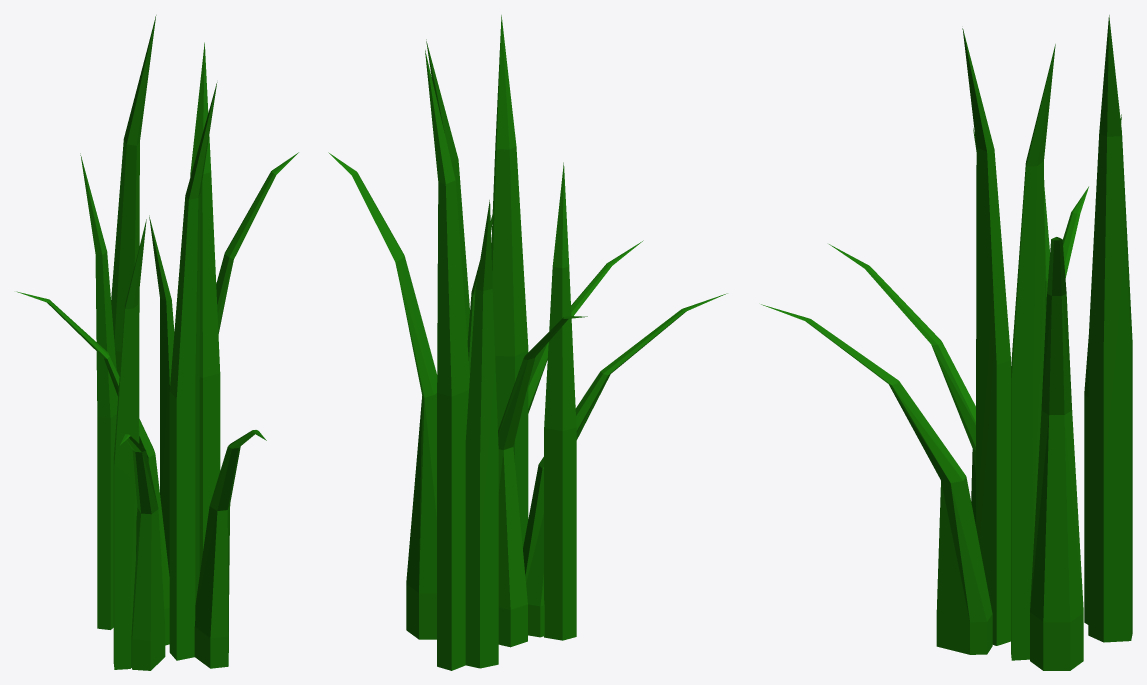
Rendered from Grass.obj.
The picture shows the model from 3 angles, left to right: view 1: azimuth 30°, elevation 25°; view 2: azimuth 150°, elevation 25°; view 3: azimuth 270°, elevation 25°; orthographic projection. The views are drawn at different scales.
Parts seen in each view (by area): view 1: 柱体.007, 柱体.005, 柱体.003, 柱体.009, 柱体.002, 柱体.006, 柱体.008, 柱体.004, 柱体.001, 柱体; view 2: 柱体.008, 柱体.009, 柱体.005, 柱体.007, 柱体, 柱体.001, 柱体.006, 柱体.003, 柱体.002; view 3: 柱体.008, 柱体.007, 柱体, 柱体.003, 柱体.002, 柱体.006, 柱体.009, 柱体.001.
Boxes of the visible parts, x1,y1,x2,y2 form: 柱体.007: (169,82,217,660); 柱体.005: (113,219,146,669); 柱体.003: (190,42,220,573); 柱体.009: (80,153,117,629); 柱体.002: (194,430,266,668); 柱体.006: (119,434,165,670); 柱体.008: (111,15,156,417); 柱体.004: (149,215,174,575); 柱体.001: (16,291,169,645); 柱体: (216,152,298,333); 柱体.008: (425,50,469,670); 柱体.009: (465,200,498,668); 柱体.005: (544,162,576,640); 柱体.007: (491,15,528,548); 柱体: (328,152,437,639); 柱体.001: (498,316,587,647); 柱体.006: (523,293,727,637); 柱体.003: (426,39,469,342); 柱体.002: (528,240,643,413); 柱体.008: (1088,15,1132,642); 柱体.007: (962,28,1010,645); 柱体: (1030,237,1083,670); 柱体.003: (1011,44,1055,660); 柱体.002: (761,304,992,654); 柱体.006: (829,244,975,525); 柱体.009: (1084,114,1121,624); 柱体.001: (1062,186,1088,277).
Size of the model in its own units: 0.9897 by 1.96 by 1.04.
